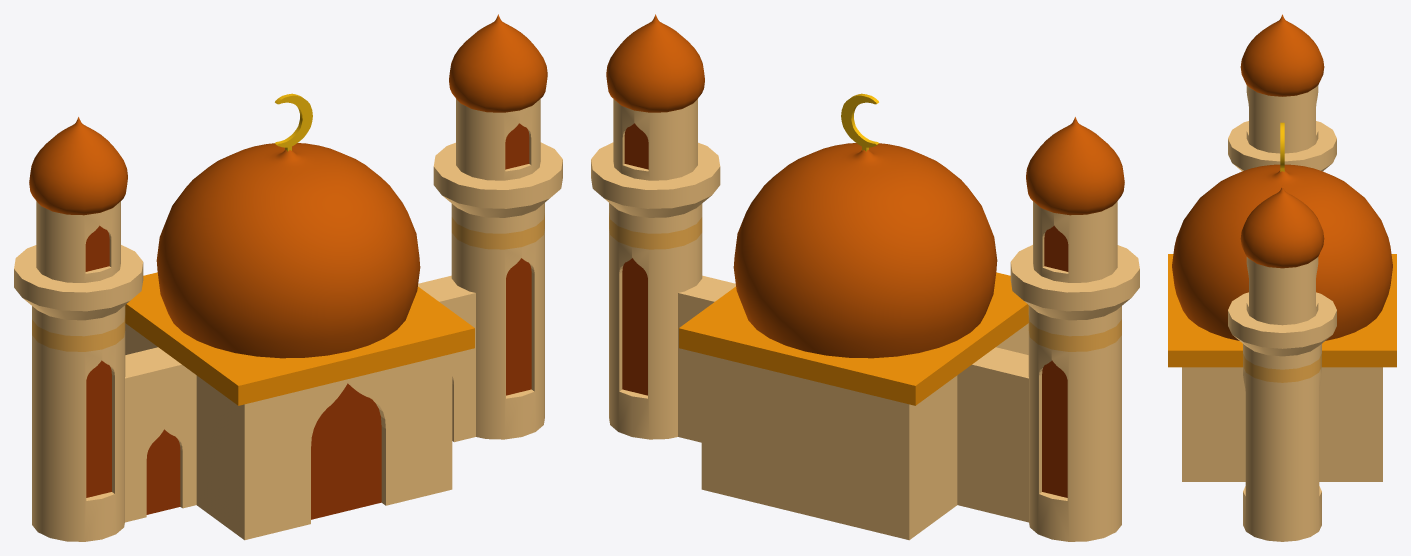
File: mosque.glb
3 renders of one model, left to right at view 1: azimuth 30°, elevation 25°; view 2: azimuth 150°, elevation 25°; view 3: azimuth 270°, elevation 25°, orthographic. The views are drawn at different scales.
Visible parts, largest first — view 1: Cube.504; view 2: Cube.504; view 3: Cube.504.
Boxes of the visible parts, left/top/right/bottom form: Cube.504: left=14, top=14, right=562, bottom=541; Cube.504: left=591, top=14, right=1139, bottom=541; Cube.504: left=1168, top=14, right=1396, bottom=541.
Bounding box in the file's own units: 2.39 × 1.75 × 1.06.
Materials: 1 (1 with a texture image).
